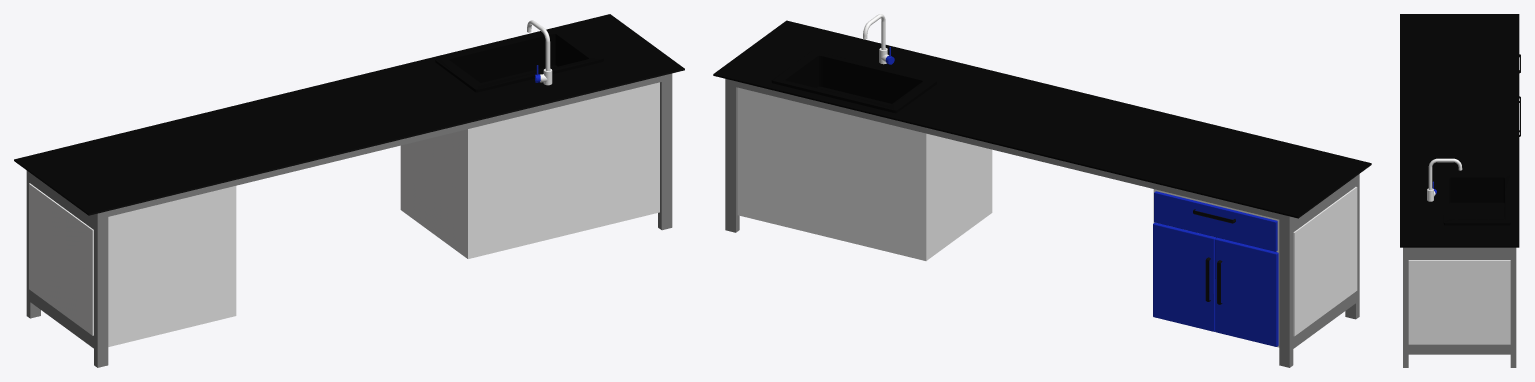
File: LabTable1.fbx
3 renders of one model, left to right at view 1: azimuth 30°, elevation 25°; view 2: azimuth 150°, elevation 25°; view 3: azimuth 270°, elevation 25°, orthographic. The views are drawn at different scales.
Visible parts, largest first — view 1: lowerLevel, Upperlevel, sink-tube; view 2: lowerLevel, Upperlevel; view 3: Upperlevel, lowerLevel, sink-tube.
Boxes of the visible parts, box(x1,y1,x2,y2) form: lowerLevel: box(26, 73, 672, 367); Upperlevel: box(14, 14, 684, 215); sink-tube: box(527, 20, 552, 85); lowerLevel: box(725, 79, 1359, 367); Upperlevel: box(713, 20, 1371, 218); Upperlevel: box(1400, 14, 1519, 247); lowerLevel: box(1403, 247, 1516, 367); sink-tube: box(1427, 158, 1462, 201).
Bounding box in the file's own units: 145 × 48.76 × 31.91.
